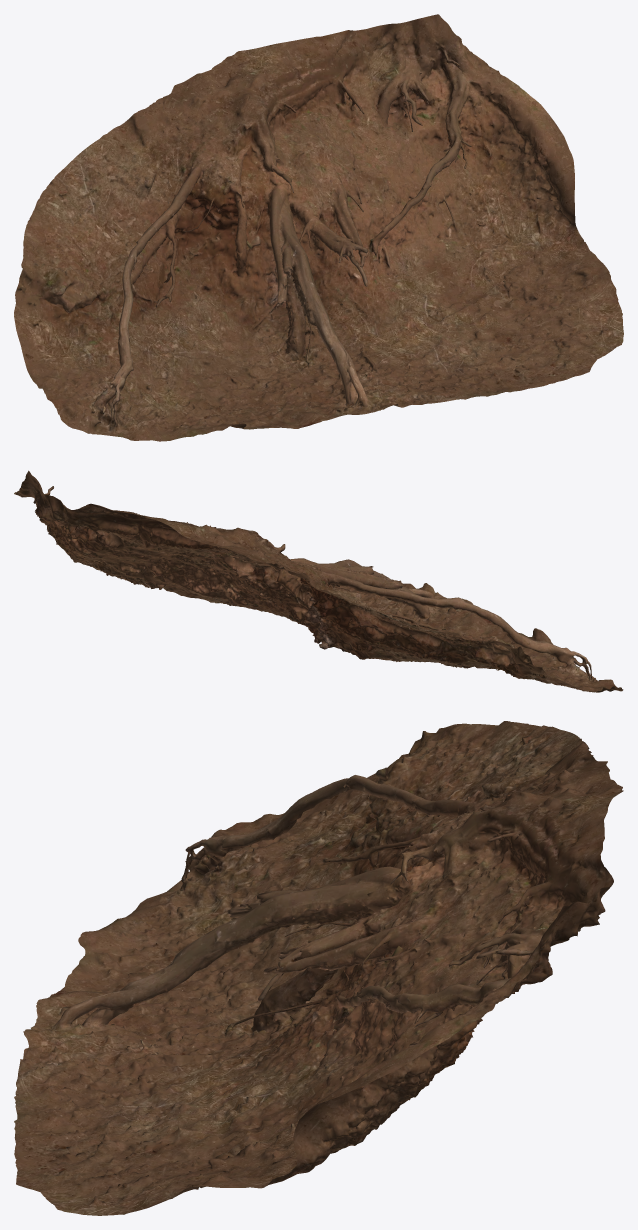
File: root_cluster_01.glb
The picture shows the model from 3 angles, top to bottom: view 1: azimuth 30°, elevation 25°; view 2: azimuth 150°, elevation 25°; view 3: azimuth 270°, elevation 25°; orthographic projection. The views are drawn at different scales.
Parts seen in each view (by area): view 1: root_cluster_01; view 2: root_cluster_01; view 3: root_cluster_01.
Boxes of the visible parts, x1,y1,x2,y2 form: root_cluster_01: [14, 14, 623, 441]; root_cluster_01: [14, 470, 623, 692]; root_cluster_01: [14, 721, 623, 1215].
Size of the model in its own units: 4.12 by 1.51 by 2.68.
1 material, 1 textured.
